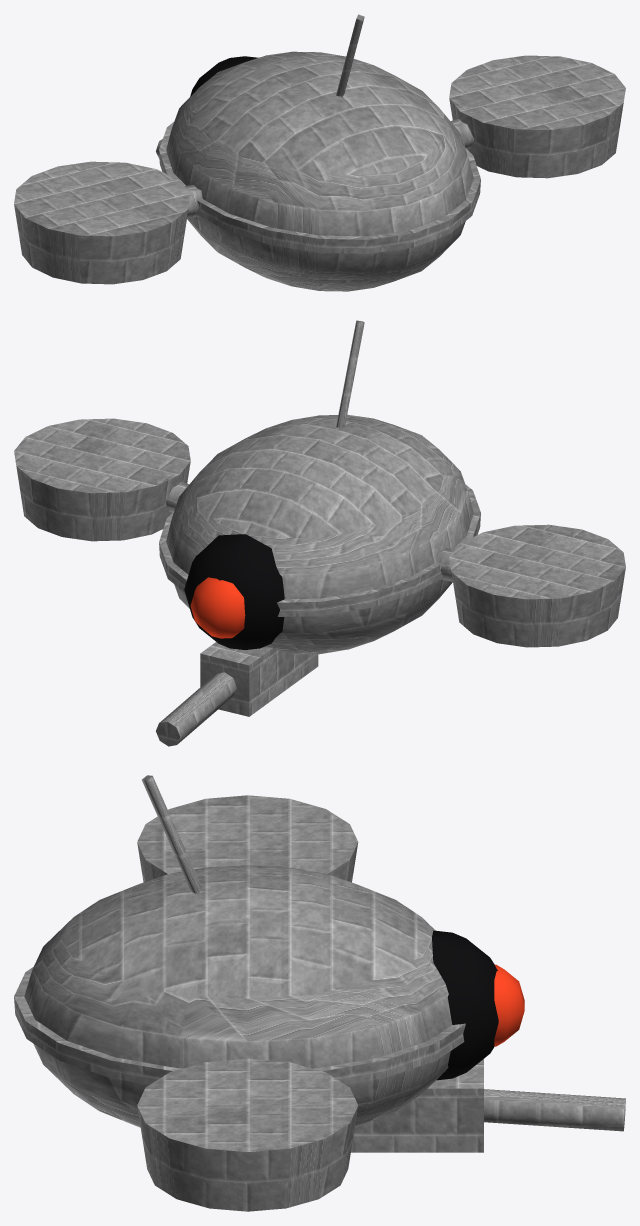
File: drone.obj
3 views of the same model, one above another, from view 1: azimuth 30°, elevation 25°; view 2: azimuth 150°, elevation 25°; view 3: azimuth 270°, elevation 25° (orthographic). The views are drawn at different scales.
Bounding box in the file's own units: 1.68 × 0.7945 × 1.22.
4 materials, 2 textured.
